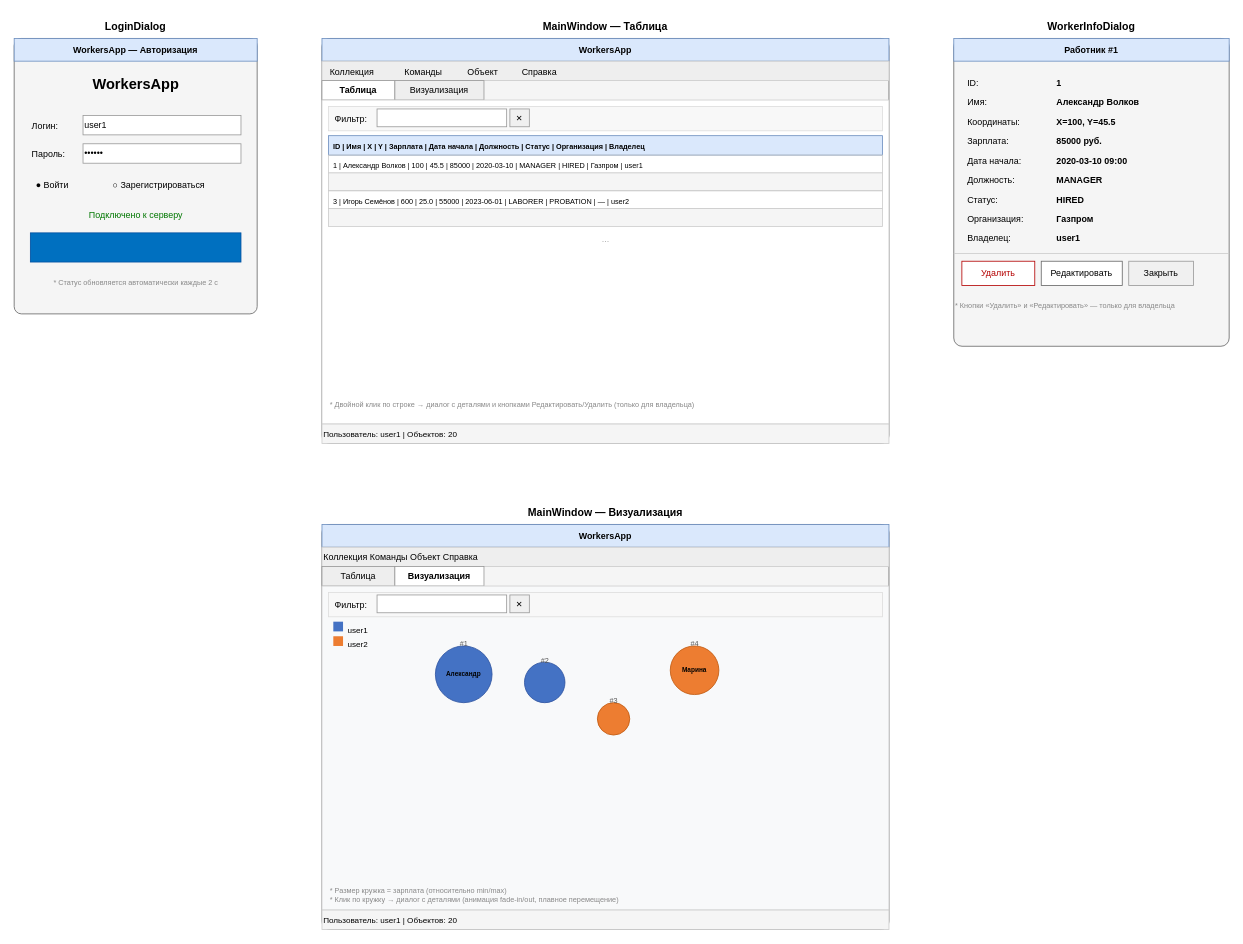
Some shapes in this 1243 by 944 pixel diagram are drawn without their labels. Here are the shapes that lost their labels. From the top down, the centre of each, then its label:
[135,247]: Продолжить
[544,682]: Екатерина
[613,718]: Игорь
